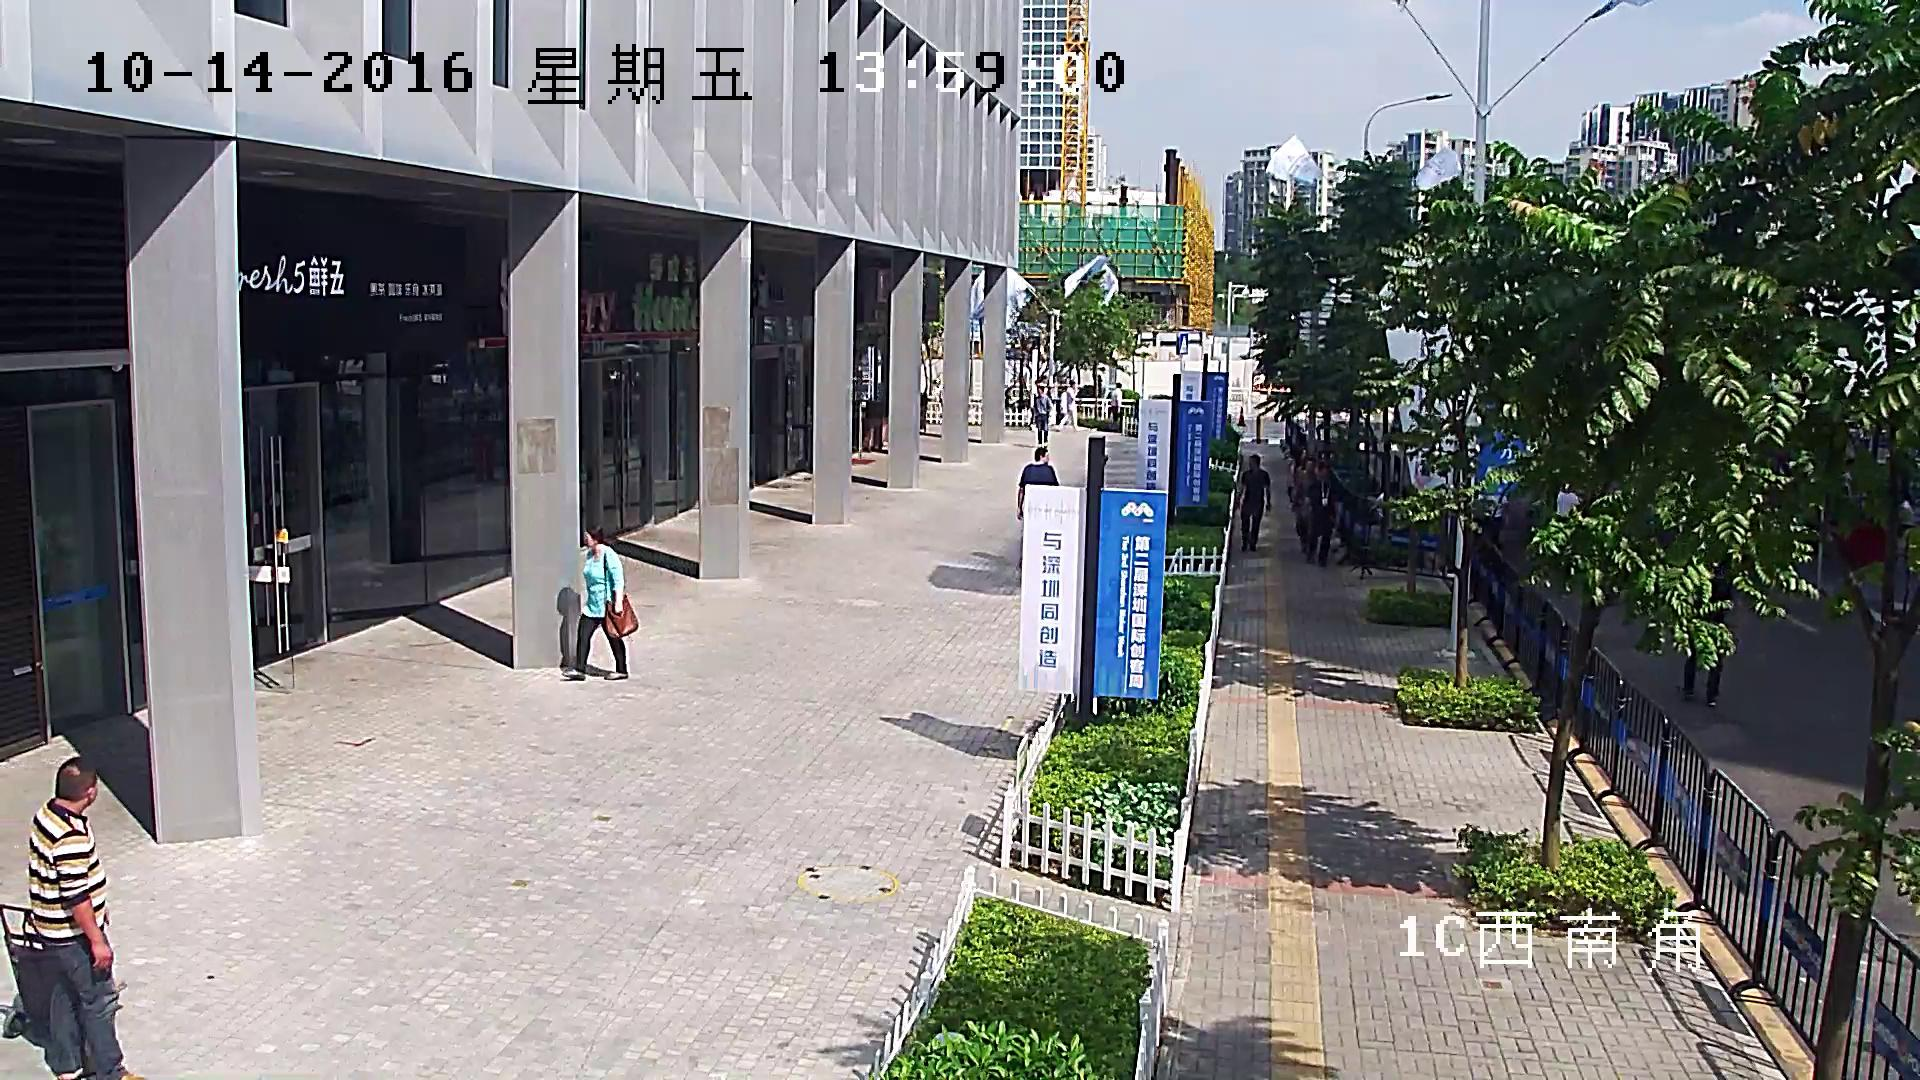person: (0, 756, 144, 1080), (27, 757, 144, 1080), (559, 526, 639, 681), (1682, 576, 1733, 707), (1239, 454, 1271, 553), (1307, 462, 1336, 569), (1019, 448, 1059, 520), (1056, 379, 1084, 432), (1030, 387, 1052, 448), (1111, 382, 1124, 432)
